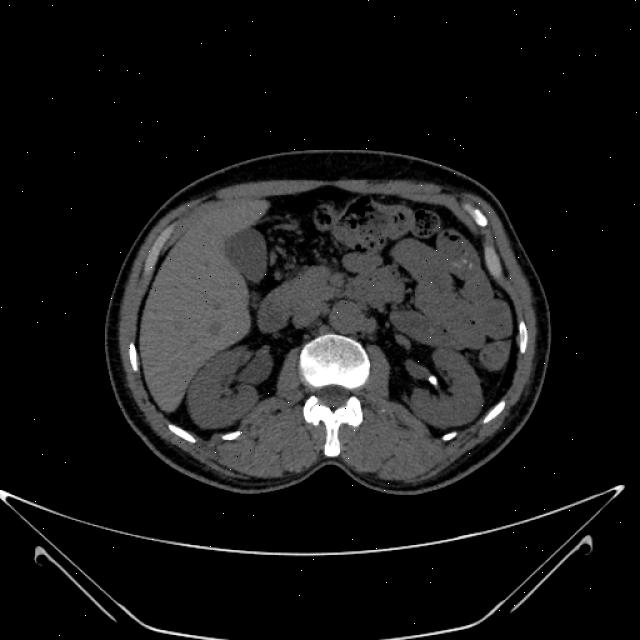kidneystone: (428, 375, 438, 389)
